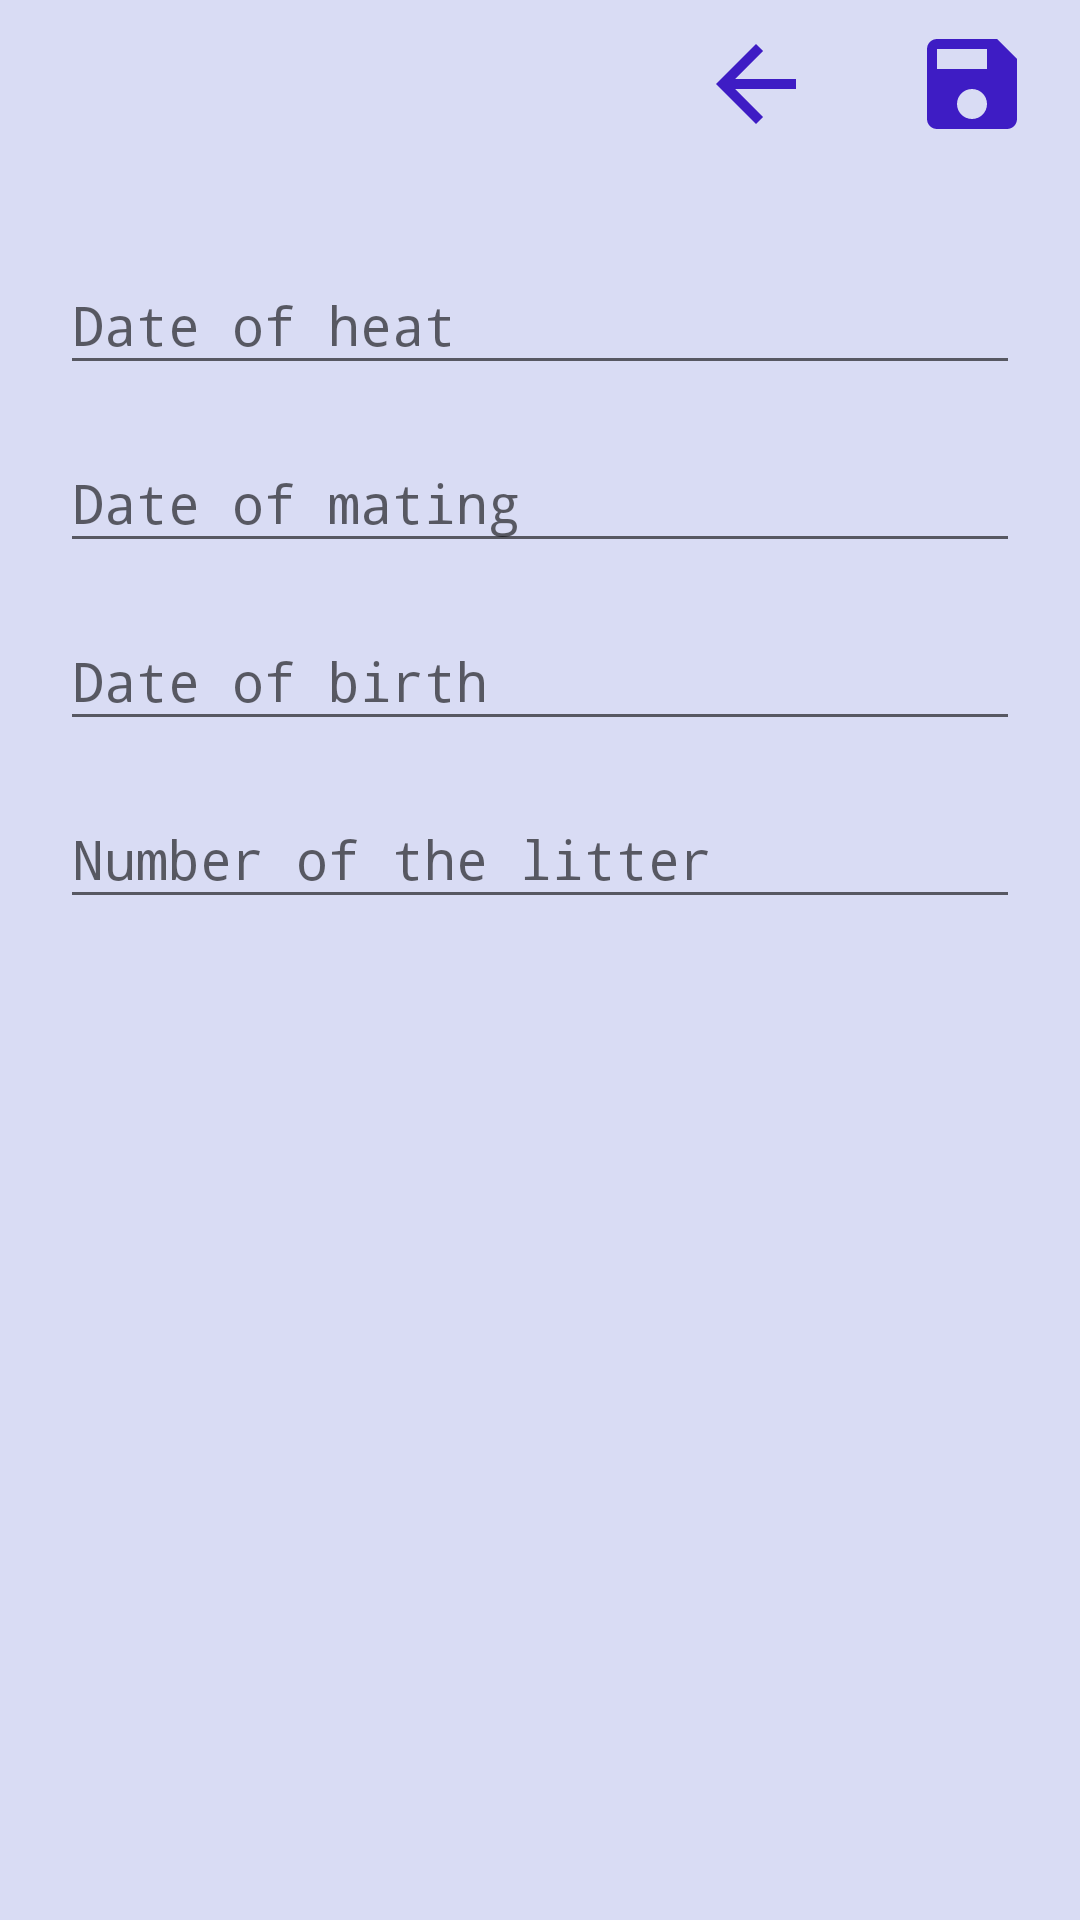

Icon bounding boxes for this 1080*1920 phone screenshot, format (x1, y1, x2, y2):
back: (716, 44, 796, 124)
save: (927, 39, 1017, 129)
